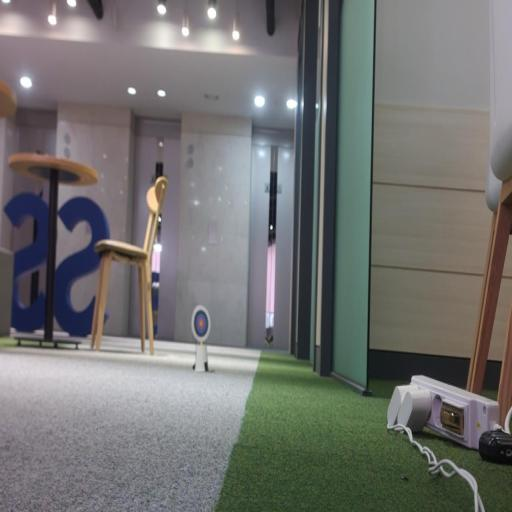target: (192, 305, 210, 343)
